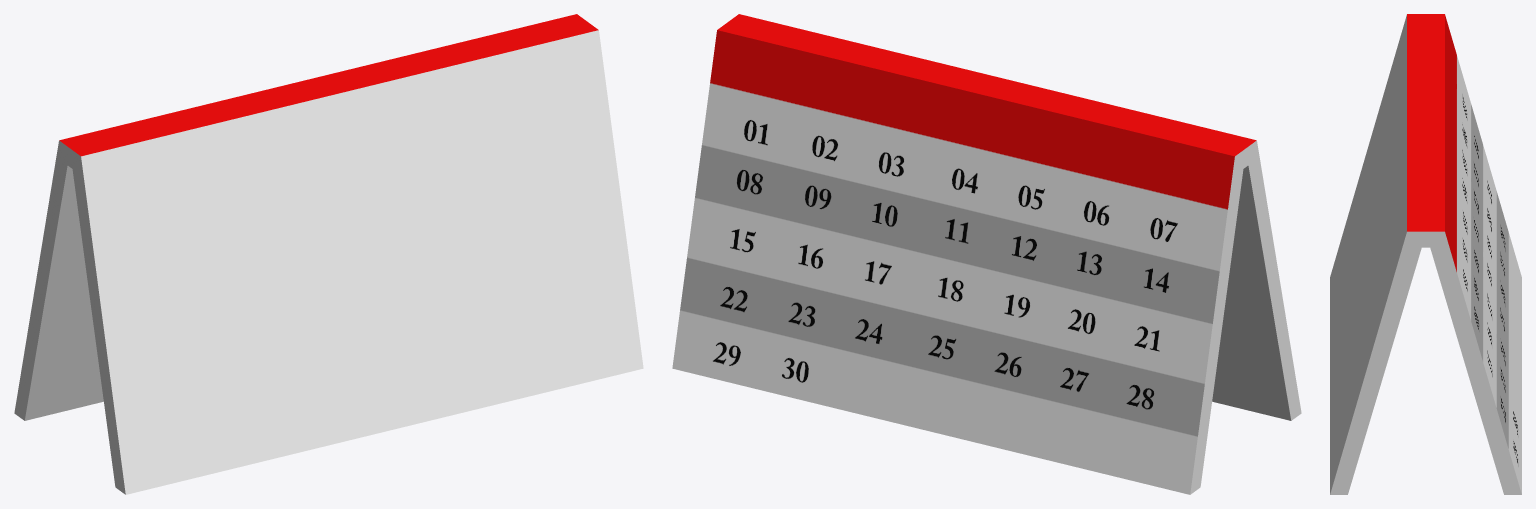
File: kalender.fbx
3 views of the same model, side by side, from view 1: azimuth 30°, elevation 25°; view 2: azimuth 150°, elevation 25°; view 3: azimuth 270°, elevation 25° (orthographic). The views are drawn at different scales.
Visible parts, largest first — view 1: Cube.001; view 2: Cube.001; view 3: Cube.001.
Boxes of the visible parts, box(x1,y1,x2,y2) form: Cube.001: box(14, 14, 643, 494); Cube.001: box(672, 14, 1301, 494); Cube.001: box(1330, 14, 1521, 494).
Bounding box in the file's own units: 41.84 × 23.61 × 15.59.
